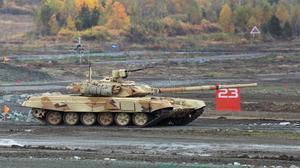t72: (23, 73, 210, 124)
